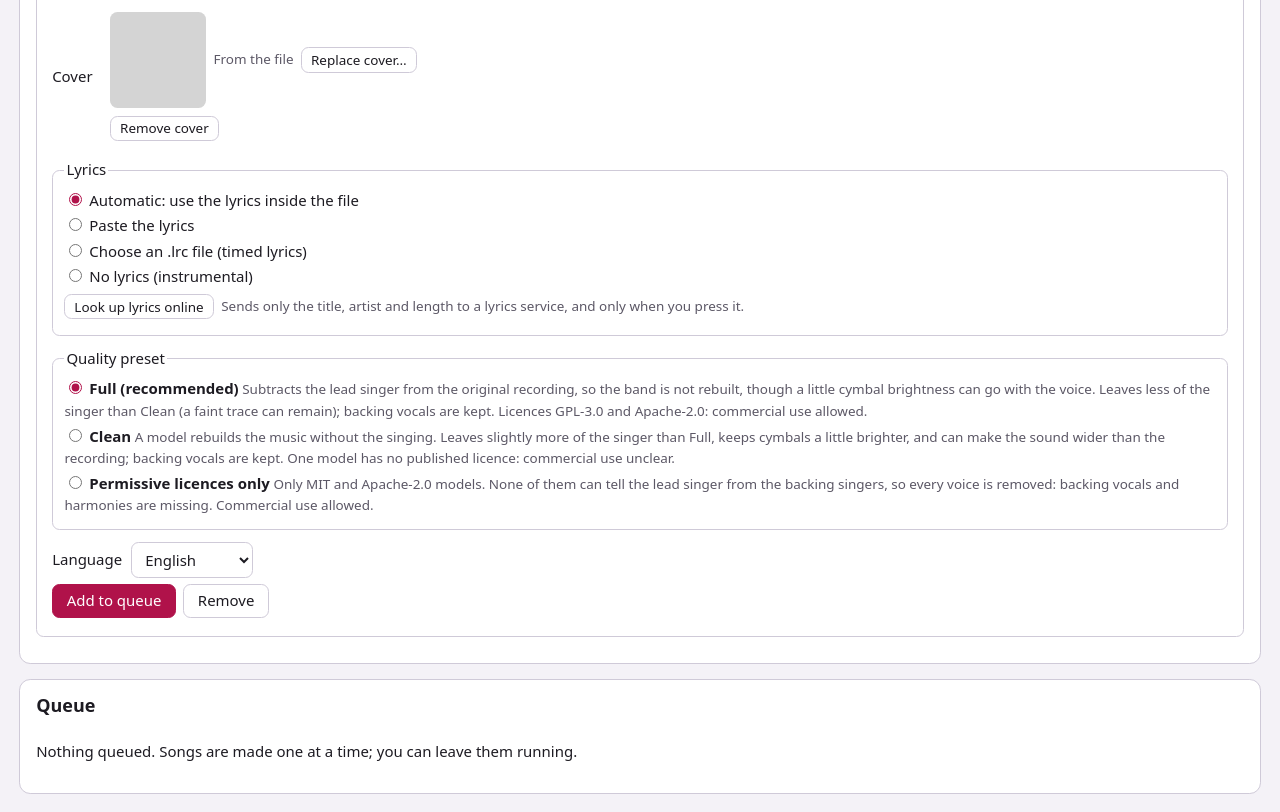
Studio form: models follow the chosen preset › Clean: names the missing model, its size and 'licence: none published; commercial use unclear', downloads only on request
Later steps or results of the test are not shown.
(page scrolled)
Click the 6th radio button at (76, 435), box [69,429,82,442]
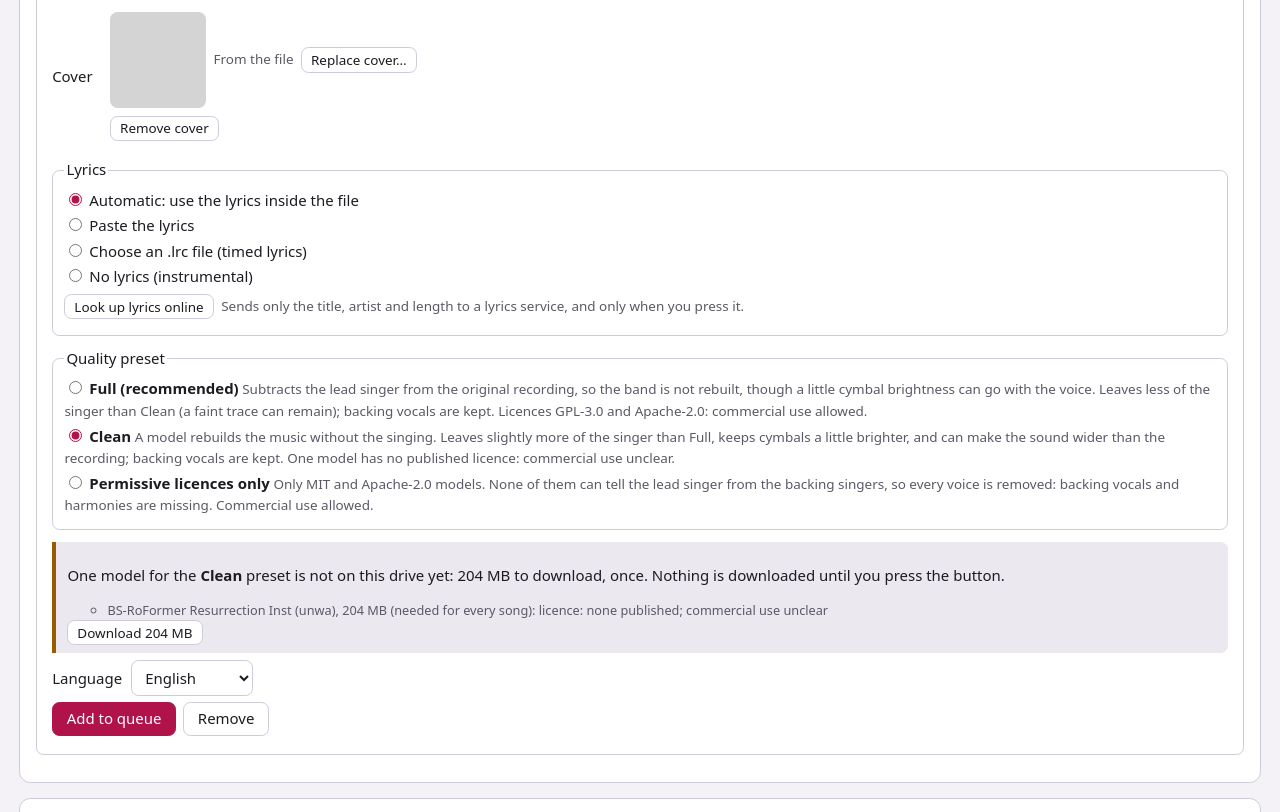
Result: the element with class "studio__models-notice" shows "One model for the Clean preset is not on this drive yet: 204 MB to download, once." at [52,542,1228,653]
Result: the element with class "studio__models-notice" shows "BS-RoFormer Resurrection Inst (unwa), 204 MB (needed for every song): licence: none published; commercial use unclear" at [52,542,1228,653]
Result: the element with class "studio__models-notice" shows "Nothing is downloaded until you press the button" at [510,565,1005,585]
